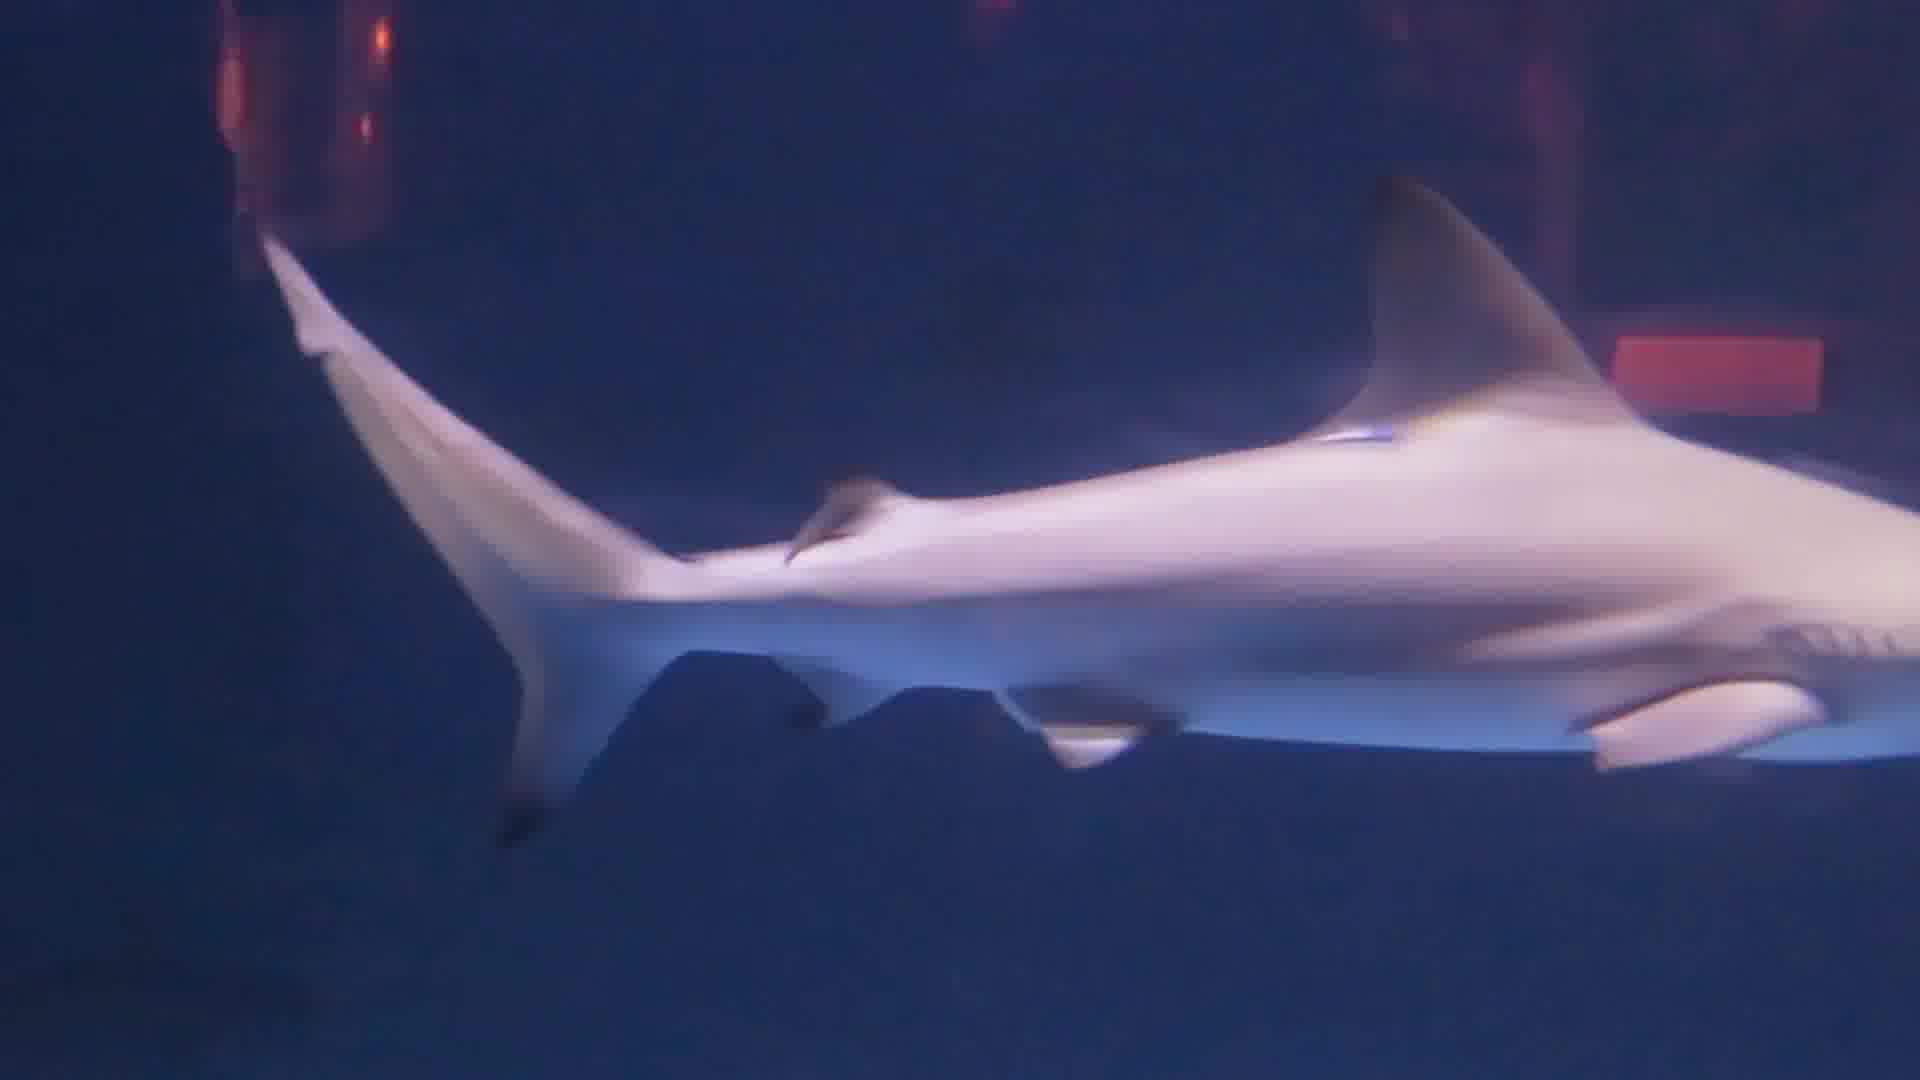Carcharhinus leucas: (303, 146, 1920, 877)
